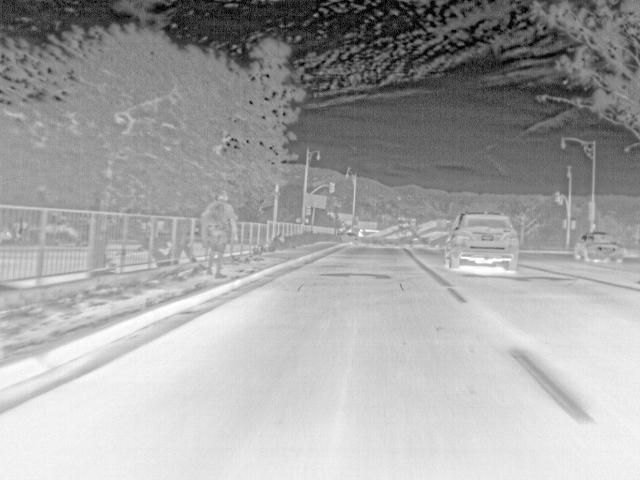car: (444, 210, 522, 273), (575, 231, 626, 265)
person: (201, 188, 240, 280)
